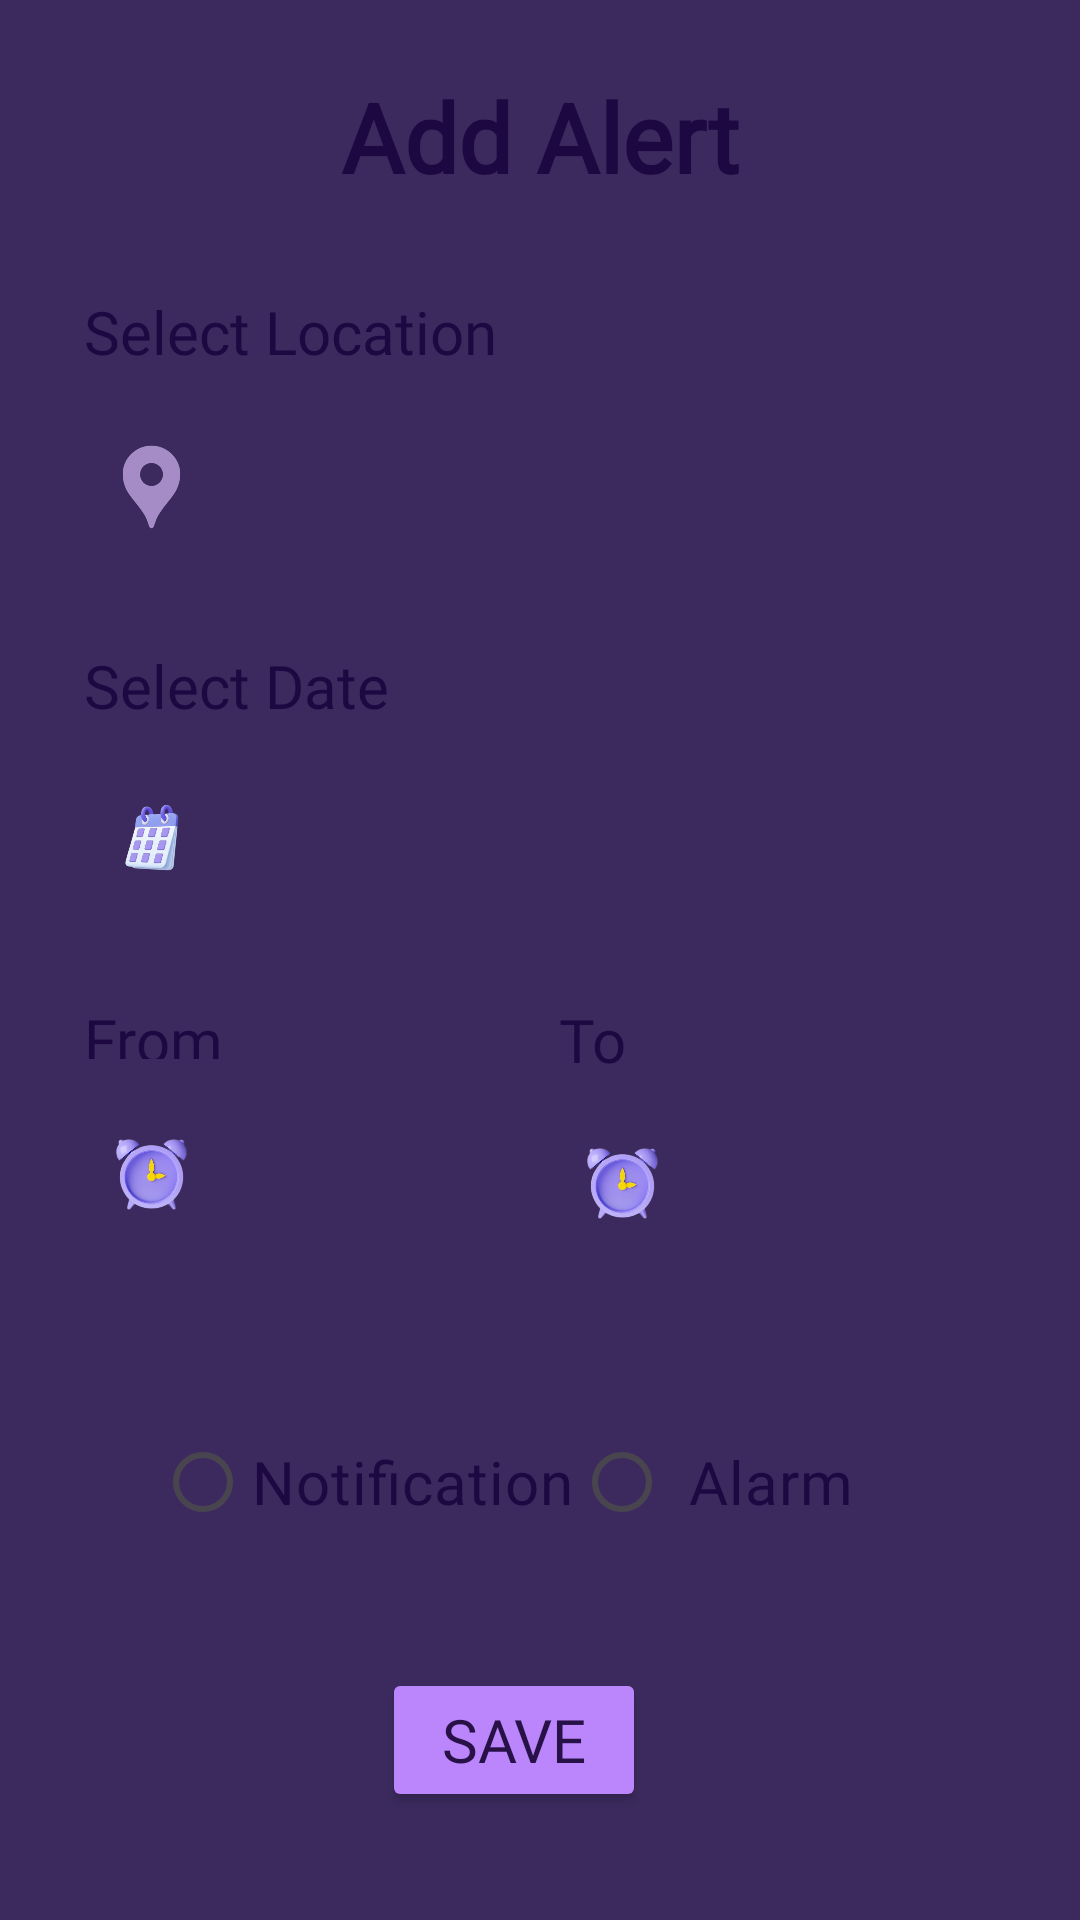

Icon click points for this 1080px x 1920px phone screenshot, format point (x, y):
alarm: point (151, 1174), point (622, 1183)
calendar: point (151, 837)
map: point (151, 487)
